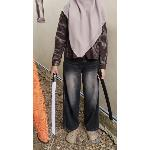Pedang: (49, 62, 63, 140)
